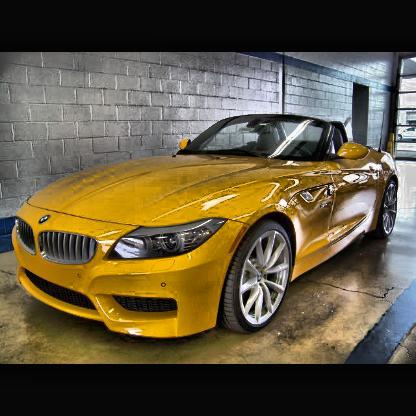BMW Z4 Convertible 2012: (14, 115, 400, 345)
